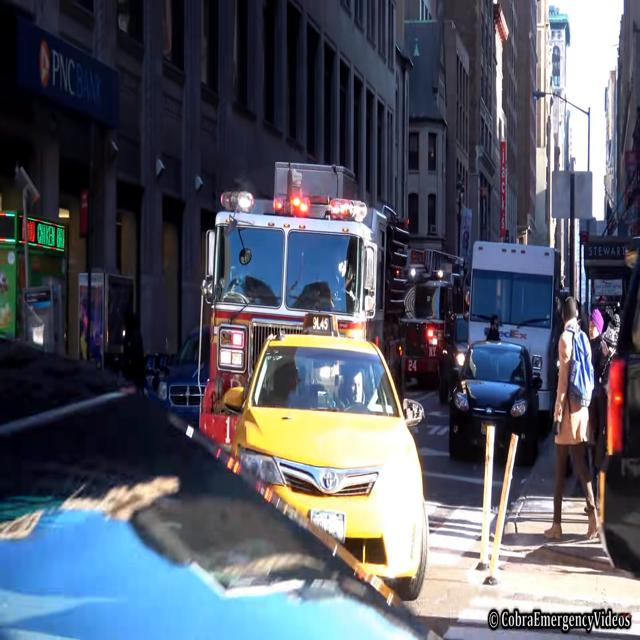emergency-vehicles: (182, 172, 410, 473)
